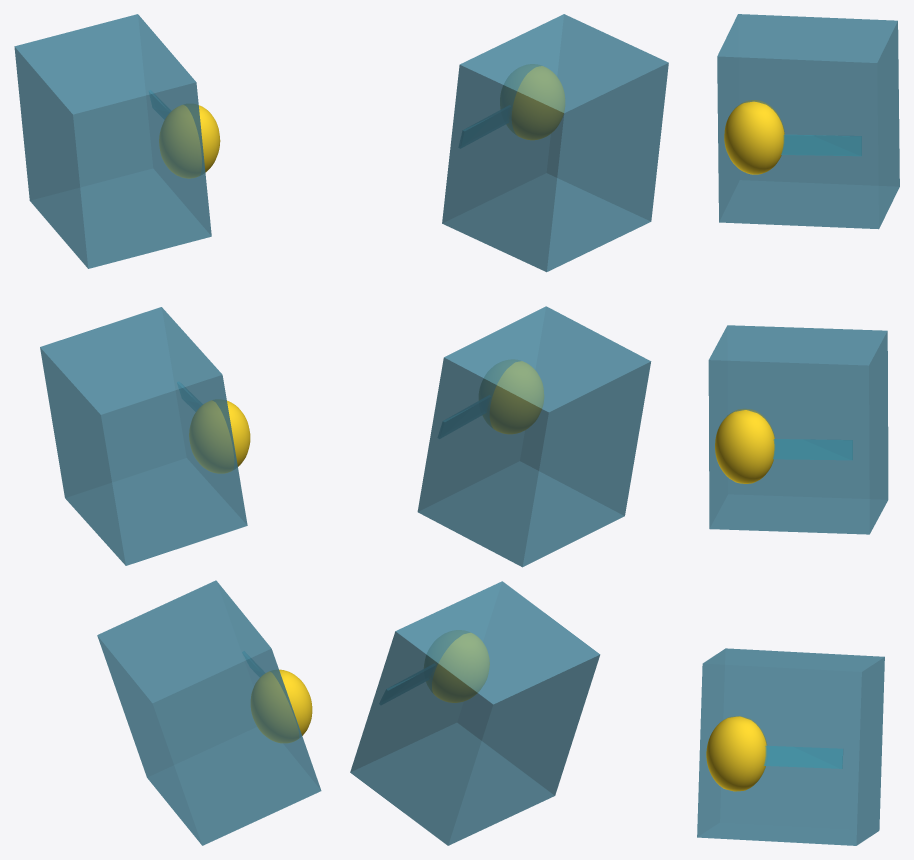
Rendered from lazer hologram puzzle lock hologram start blocks for the lazer.fbx.
3 views of the same model, side by side, from view 1: azimuth 30°, elevation 25°; view 2: azimuth 150°, elevation 25°; view 3: azimuth 270°, elevation 25° (orthographic). The views are drawn at different scales.
Visible parts, largest first — view 1: 7a266dcd-ffd4-4716-8187-9614f871d40f; view 2: 7a266dcd-ffd4-4716-8187-9614f871d40f; view 3: 7a266dcd-ffd4-4716-8187-9614f871d40f.
Boxes of the visible parts, x1,y1,x2,y2 form: 7a266dcd-ffd4-4716-8187-9614f871d40f: [14, 14, 321, 845]; 7a266dcd-ffd4-4716-8187-9614f871d40f: [350, 14, 668, 845]; 7a266dcd-ffd4-4716-8187-9614f871d40f: [697, 14, 899, 845].
Bounding box in the file's own units: 12203 × 35558 × 8531.
